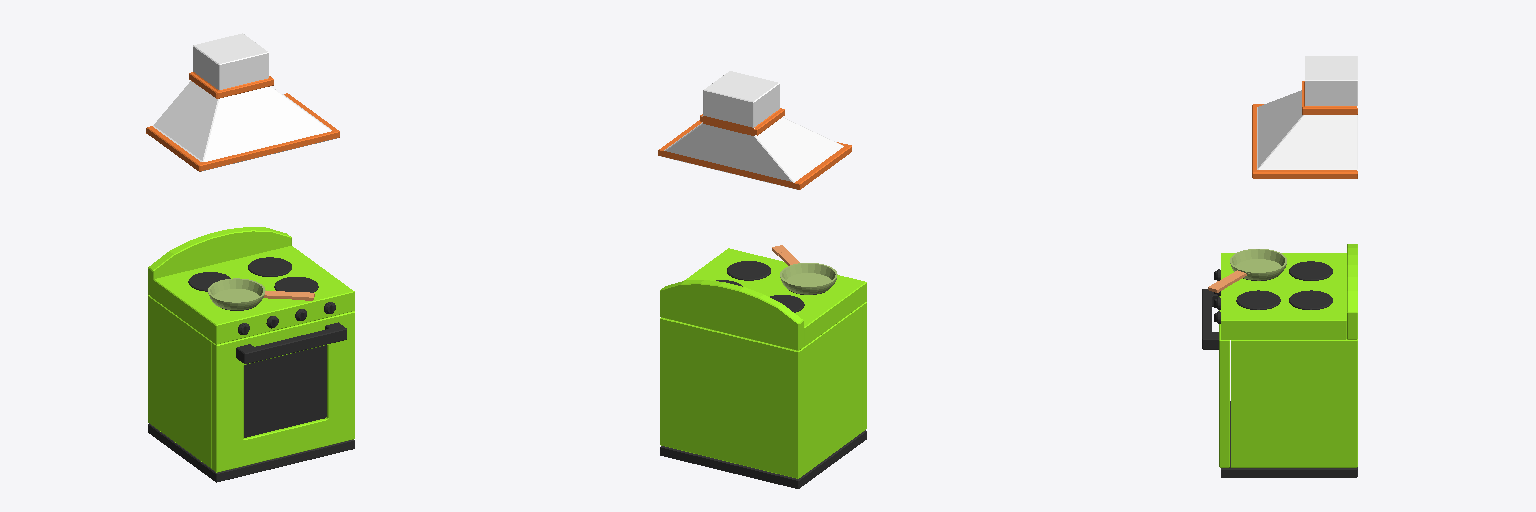
The model's file is green-kitchen4.obj.
The picture shows the model from 3 angles: view 1: azimuth 30°, elevation 25°; view 2: azimuth 150°, elevation 25°; view 3: azimuth 270°, elevation 25°; orthographic projection.
Parts seen in each view (by area): view 1: green_kitchen4:FryingFBXASC032pan2; view 2: green_kitchen4:FryingFBXASC032pan2; view 3: green_kitchen4:FryingFBXASC032pan2.
Boxes of the visible parts, x1,y1,x2,y2 form: green_kitchen4:FryingFBXASC032pan2: [146, 33, 354, 482]; green_kitchen4:FryingFBXASC032pan2: [658, 71, 866, 488]; green_kitchen4:FryingFBXASC032pan2: [1202, 56, 1357, 477].
Size of the model in its own units: 143 by 362 by 136.